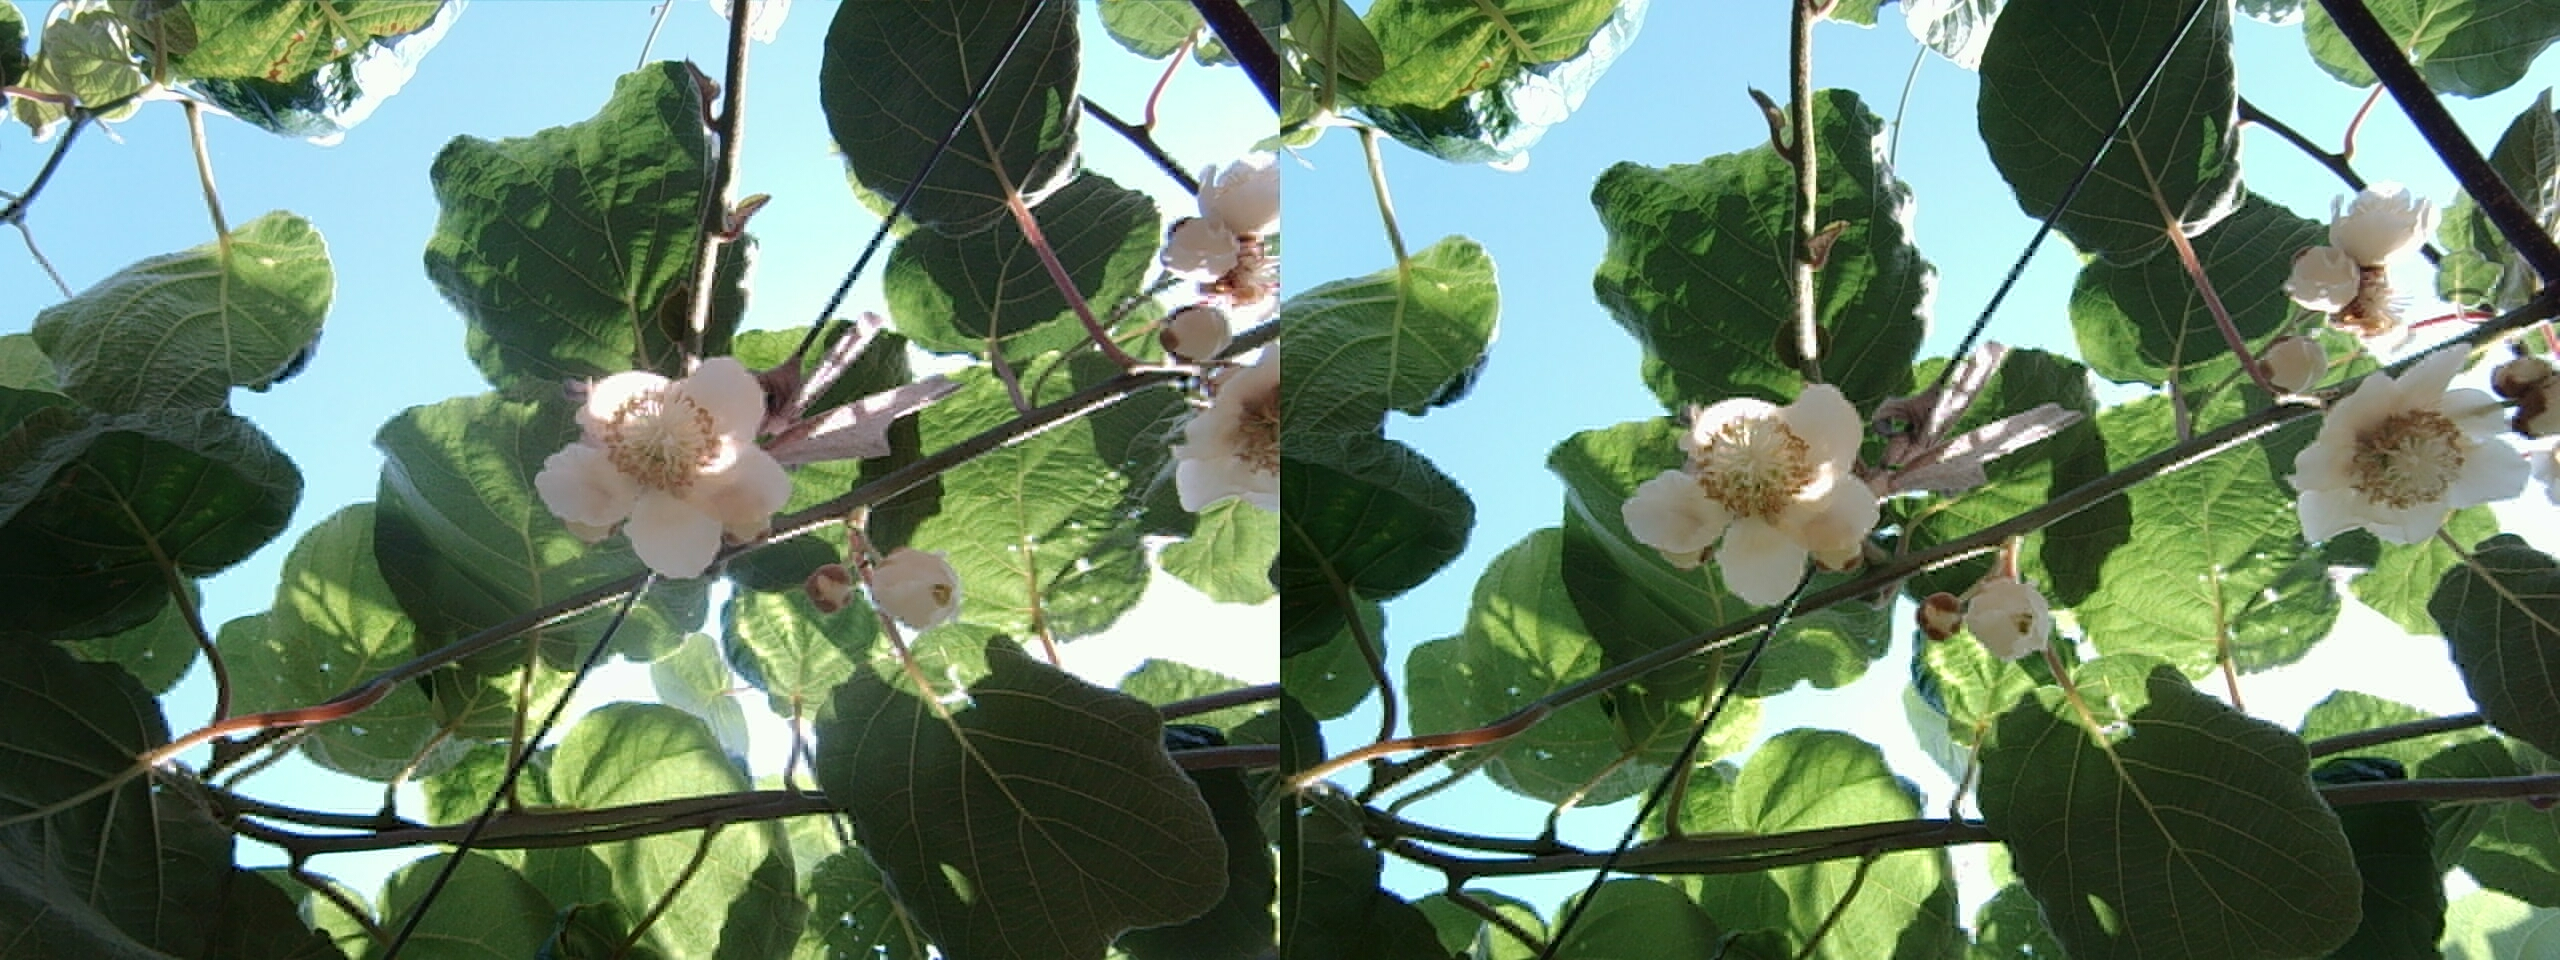flower: (536, 349, 790, 565), (1628, 379, 1868, 586), (2286, 371, 2527, 542)
